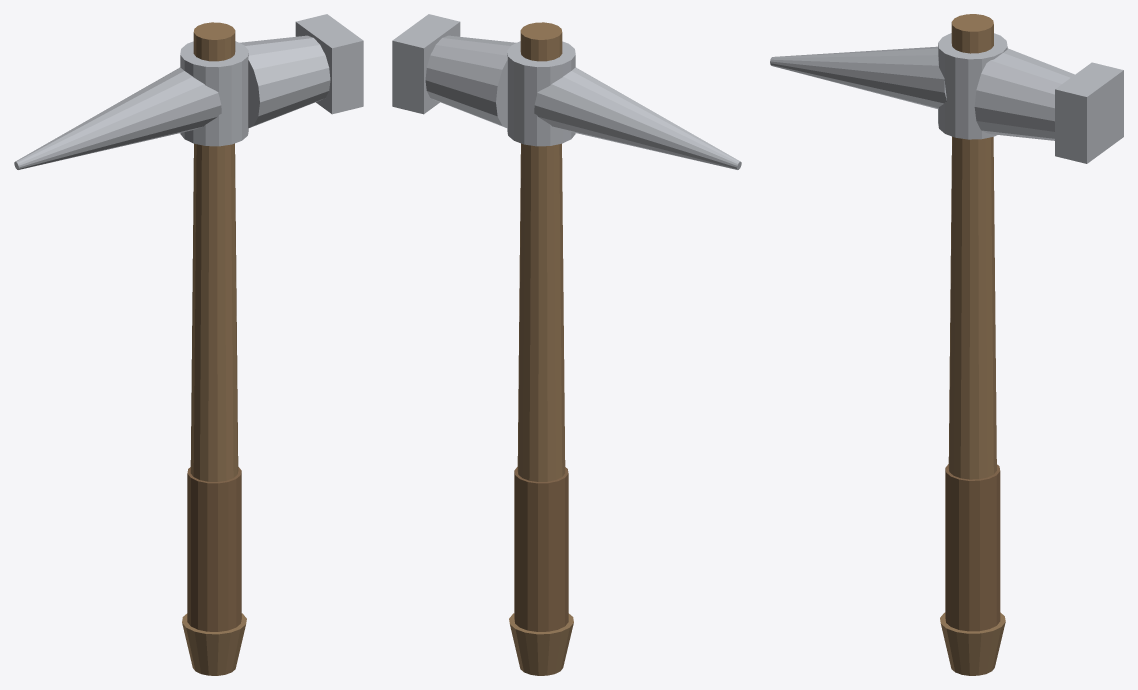
The model's file is hammer.glb.
3 renders of one model, left to right at view 1: azimuth 30°, elevation 25°; view 2: azimuth 150°, elevation 25°; view 3: azimuth 330°, elevation 25°, orthographic.
Visible parts, largest first — view 1: Cone, Cylinder, Cone.003, Cone.002, Cylinder.001, Cube, Cone.001, Cylinder.002; view 2: Cone, Cylinder, Cone.003, Cone.002, Cylinder.001, Cube, Cone.001, Cylinder.002; view 3: Cone, Cylinder, Cone.002, Cone.003, Cube, Cylinder.001, Cone.001, Cylinder.002.
Boxes of the visible parts, x1,y1,x2,y2 form: Cone: (190,143,238,481); Cylinder: (187,467,241,631); Cone.003: (14,67,221,169); Cone.002: (239,35,330,128); Cylinder.001: (180,41,248,146); Cube: (295,14,363,114); Cone.001: (182,613,246,675); Cylinder.002: (193,22,235,61); Cone: (517,143,565,481); Cylinder: (514,467,568,631); Cone.003: (534,67,741,169); Cone.002: (425,35,516,128); Cylinder.001: (507,41,575,146); Cube: (392,14,460,114); Cone.001: (509,613,573,675); Cylinder.002: (520,22,562,61); Cone: (948,136,996,479); Cylinder: (945,464,1000,631); Cone.002: (974,48,1074,140); Cone.003: (770,46,946,108); Cube: (1055,62,1123,163); Cylinder.001: (938,33,1007,139); Cone.001: (940,612,1005,675); Cylinder.002: (951,14,993,53).
Size of the model in its own units: 0.2088 by 0.385 by 0.048.
